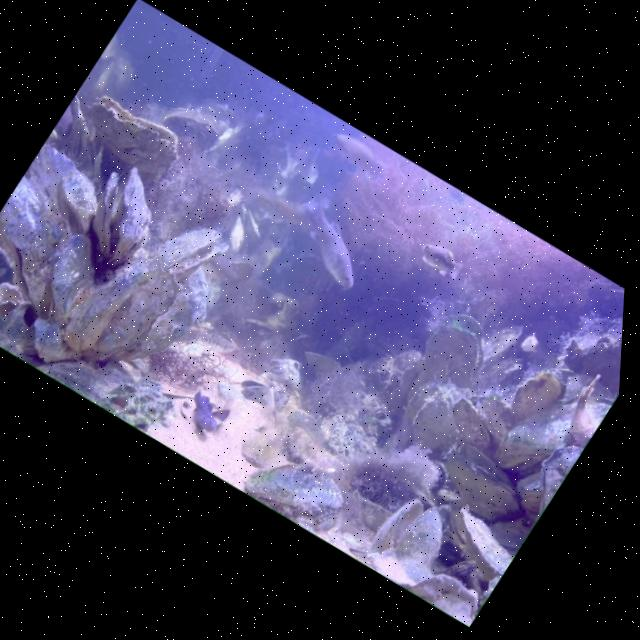Oyster-Closed: (489, 361, 617, 498), (57, 245, 152, 357), (92, 259, 186, 371), (77, 87, 190, 177), (425, 446, 534, 537), (431, 504, 526, 589), (39, 94, 127, 181), (500, 359, 575, 437)
Oyster-Indeterminate: (0, 173, 108, 320), (133, 262, 229, 374), (21, 228, 116, 332), (39, 164, 114, 238), (437, 393, 509, 457), (475, 315, 528, 374), (0, 236, 25, 325)
Oyster-Open: (64, 156, 179, 278), (361, 489, 461, 588), (145, 207, 237, 296), (410, 300, 493, 387), (155, 94, 230, 159), (234, 373, 276, 410)
